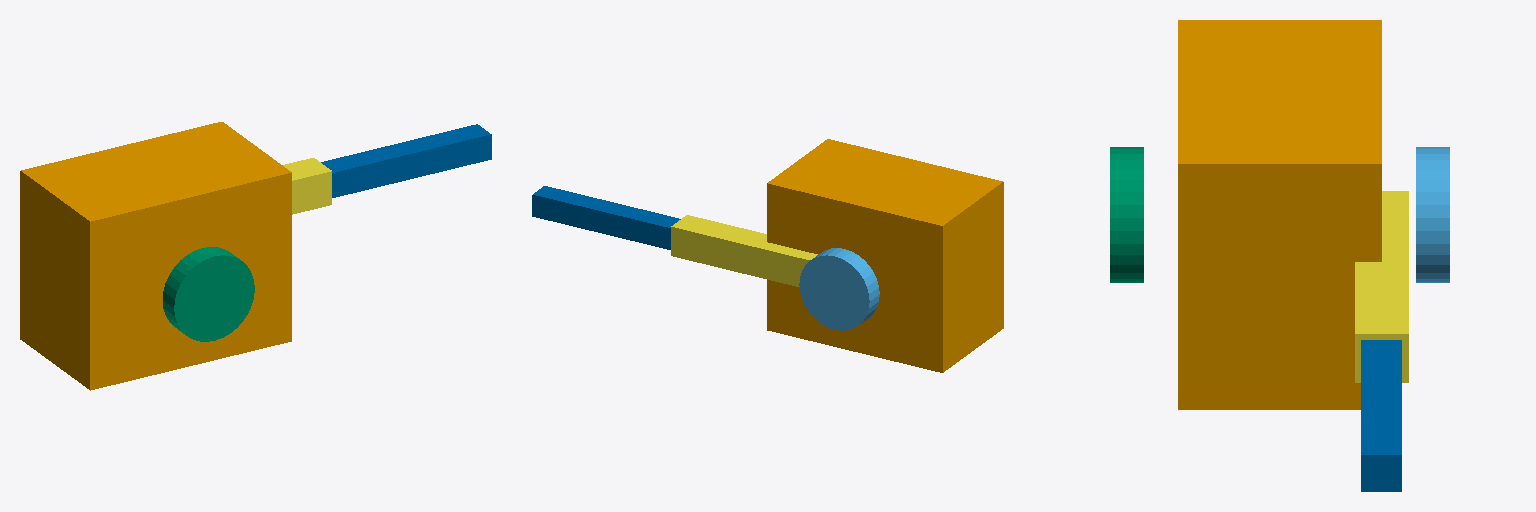
The robot description file, URDF, robot "mm_mobile":
<?xml version="1.0"?>
<robot name="mm_mobile">
  <link name="base_link">
    <visual>
      <origin xyz="0 0 0" rpy="0 0 0"/>
      <geometry>
        <box size="0.5 0.3 0.4"/>
      </geometry>
    </visual>
    <collision>
      <origin xyz="0 0 0" rpy="0 0 0"/>
      <geometry>
        <box size="0.5 0.3 0.4"/>
      </geometry>
    </collision>
  </link>

  <link name="left_wheel">
    <visual>
      <origin xyz="0 0 0" rpy="1.5708 0 0"/>
      <geometry>
        <cylinder radius="0.1" length="0.05"/>
      </geometry>
    </visual>
    <collision>
      <origin xyz="0 0 0" rpy="1.5708 0 0"/>
      <geometry>
        <cylinder radius="0.1" length="0.05"/>
      </geometry>
    </collision>
  </link>

  <link name="right_wheel">
    <visual>
      <origin xyz="0 0 0" rpy="1.5708 0 0"/>
      <geometry>
        <cylinder radius="0.1" length="0.05"/>
      </geometry>
    </visual>
    <collision>
      <origin xyz="0 0 0" rpy="1.5708 0 0"/>
      <geometry>
        <cylinder radius="0.1" length="0.05"/>
      </geometry>
    </collision>
  </link>

  <link name="upper_arm_link">
    <visual>
      <origin xyz="0.25 0 0" rpy="0 0 0"/>
      <geometry>
        <box size="0.5 0.08 0.08"/>
      </geometry>
    </visual>
    <collision>
      <origin xyz="0.25 0 0" rpy="0 0 0"/>
      <geometry>
        <box size="0.5 0.08 0.08"/>
      </geometry>
    </collision>
  </link>

  <link name="forearm_link">
    <visual>
      <origin xyz="0.2 0 0" rpy="0 0 0"/>
      <geometry>
        <box size="0.4 0.06 0.06"/>
      </geometry>
    </visual>
    <collision>
      <origin xyz="0.2 0 0" rpy="0 0 0"/>
      <geometry>
        <box size="0.4 0.06 0.06"/>
      </geometry>
    </collision>
  </link>

  <joint name="left_wheel_joint" type="continuous">
    <parent link="base_link"/>
    <child link="left_wheel"/>
    <origin xyz="0 0.225 0" rpy="0 0 0"/>
    <axis xyz="0 0 1"/>
  </joint>

  <joint name="right_wheel_joint" type="continuous">
    <parent link="base_link"/>
    <child link="right_wheel"/>
    <origin xyz="0 -0.225 0" rpy="0 0 0"/>
    <axis xyz="0 0 1"/>
  </joint>

  <joint name="shoulder_joint" type="revolute">
    <parent link="base_link"/>
    <child link="upper_arm_link"/>
    <origin xyz="0 0.15 0" rpy="0 0 0"/>
    <axis xyz="0 1 0"/>
  </joint>

  <joint name="elbow_joint" type="revolute">
    <parent link="upper_arm_link"/>
    <child link="forearm_link"/>
    <origin xyz="0.5 0 0" rpy="0 0 0"/>
    <axis xyz="0 1 0"/>
  </joint>
</robot>

--- Render facts (derived) ---
Views: 3 orthographic renders of the robot side by side, from view 1: azimuth 30°, elevation 25°; view 2: azimuth 150°, elevation 25°; view 3: azimuth 270°, elevation 25°.
Robot: mm_mobile — 5 links, 4 joints (2 revolute, 2 continuous); root link base_link; default pose: all joints at 0.
Visible links, largest first — view 1: base_link, right_wheel, forearm_link, upper_arm_link; view 2: base_link, upper_arm_link, left_wheel, forearm_link; view 3: base_link, upper_arm_link, forearm_link, left_wheel, right_wheel.
Link boxes in pixels (bbox=[...]): base_link: bbox=[20, 122, 291, 390]; right_wheel: bbox=[163, 247, 254, 341]; forearm_link: bbox=[321, 124, 491, 197]; upper_arm_link: bbox=[283, 158, 331, 214]; base_link: bbox=[767, 139, 1003, 372]; upper_arm_link: bbox=[671, 215, 817, 286]; left_wheel: bbox=[799, 248, 879, 330]; forearm_link: bbox=[532, 186, 680, 249]; base_link: bbox=[1178, 20, 1381, 409]; upper_arm_link: bbox=[1355, 191, 1408, 382]; forearm_link: bbox=[1361, 340, 1401, 491]; left_wheel: bbox=[1416, 147, 1449, 282]; right_wheel: bbox=[1110, 147, 1143, 282].
Bounding box of the posed robot: 1.15 × 0.5 × 0.4 m (x, y, z).
Geometry: primitives only (box / cylinder / sphere), no mesh files.
